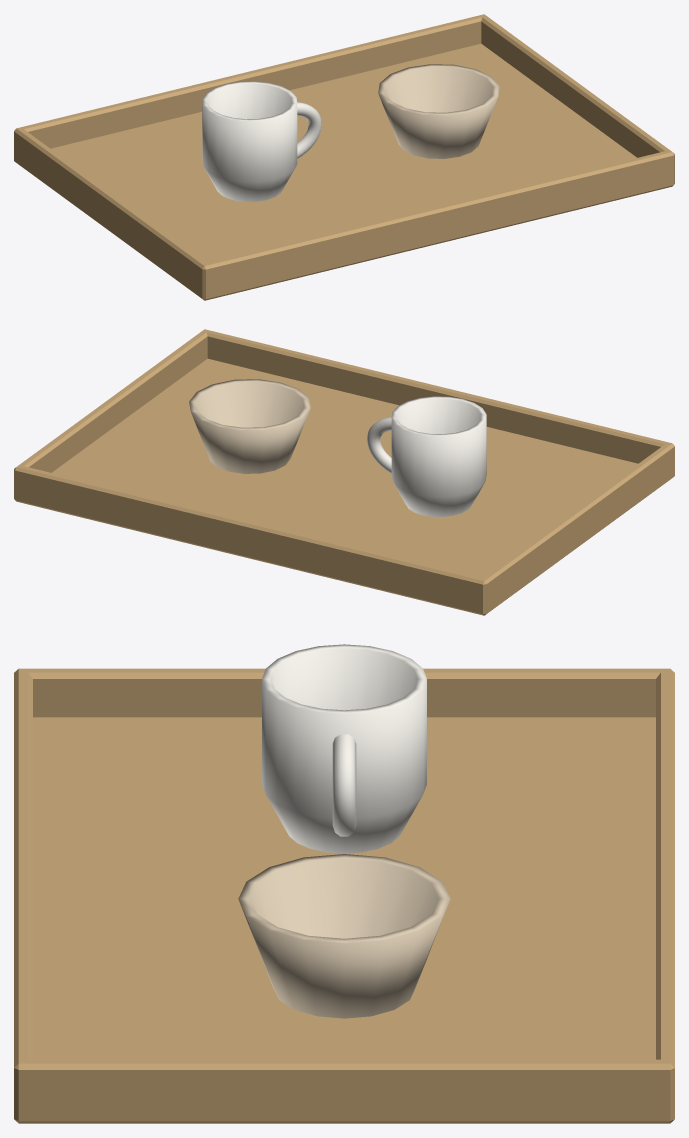
The model's file is i_tray_0.glb.
3 renders of one model, top to bottom at view 1: azimuth 30°, elevation 25°; view 2: azimuth 150°, elevation 25°; view 3: azimuth 270°, elevation 25°, orthographic. The views are drawn at different scales.
Parts seen in each view (by area): view 1: o, o.001, o.003, o.005, o.007, o.002, o.004, o.006; view 2: o, o.003, o.001, o.005, o.007, o.002, o.004, o.006; view 3: o, o.004, o.005, o.007, o.002, o.001, o.003, o.006.
Boxes of the visible parts, x1=… form: o: x1=14, y1=43, x2=636, y2=299; o.001: x1=199, y1=150, x2=674, y2=300; o.003: x1=14, y1=14, x2=486, y2=162; o.005: x1=202, y1=81, x2=297, y2=201; o.007: x1=378, y1=64, x2=499, y2=158; o.002: x1=16, y1=128, x2=208, y2=293; o.004: x1=481, y1=14, x2=674, y2=157; o.006: x1=297, y1=102, x2=321, y2=158; o: x1=52, y1=358, x2=674, y2=614; o.003: x1=14, y1=465, x2=489, y2=615; o.001: x1=203, y1=329, x2=674, y2=477; o.005: x1=391, y1=396, x2=486, y2=516; o.007: x1=189, y1=379, x2=310, y2=473; o.002: x1=478, y1=444, x2=674, y2=613; o.004: x1=17, y1=329, x2=208, y2=472; o.006: x1=367, y1=417, x2=391, y2=473; o: x1=14, y1=717, x2=674, y2=1123; o.004: x1=15, y1=1059, x2=673, y2=1121; o.005: x1=262, y1=644, x2=426, y2=853; o.007: x1=238, y1=854, x2=450, y2=1018; o.002: x1=18, y1=668, x2=674, y2=717; o.001: x1=14, y1=668, x2=32, y2=1123; o.003: x1=656, y1=668, x2=674, y2=1123; o.006: x1=332, y1=734, x2=356, y2=836.
Bounding box in the file's own units: 0.4 × 0.078 × 0.28.
